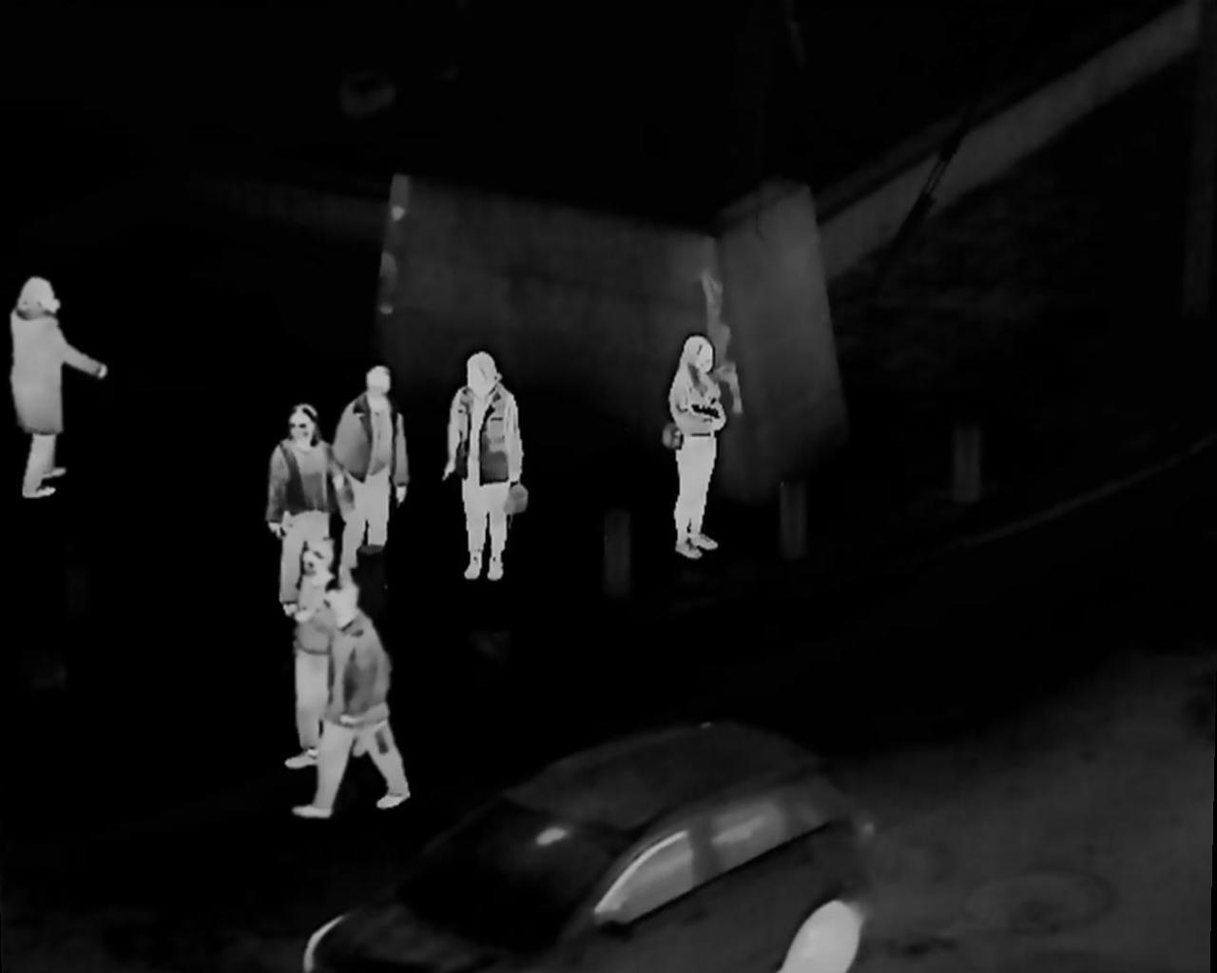person: (308, 586, 419, 812), (10, 275, 109, 499), (443, 353, 527, 581), (279, 539, 359, 770), (258, 404, 338, 615), (336, 368, 409, 565), (668, 336, 729, 560)
